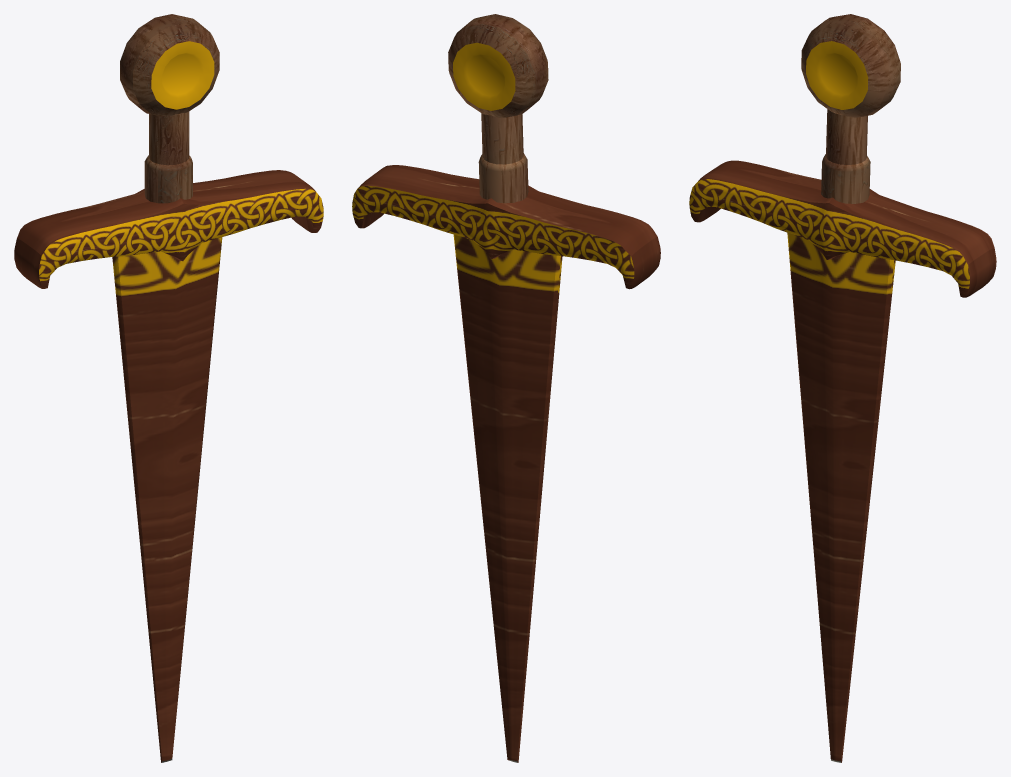
File: Sword.fbx
3 views of the same model, side by side, from view 1: azimuth 30°, elevation 25°; view 2: azimuth 150°, elevation 25°; view 3: azimuth 330°, elevation 25° (orthographic).
Parts seen in each view (by area): view 1: sword_blade, handle_hands, handle_circle, sword_handle; view 2: sword_blade, handle_hands, handle_circle, sword_handle; view 3: sword_blade, handle_hands, handle_circle, sword_handle.
Part boxes in pixels (left/top/right/bottom): sword_blade: left=112, top=237, right=222, bottom=762; handle_hands: left=14, top=170, right=323, bottom=288; handle_circle: left=120, top=14, right=219, bottom=116; sword_handle: left=144, top=111, right=192, bottom=203; sword_blade: left=453, top=234, right=562, bottom=762; handle_hands: left=352, top=165, right=660, bottom=289; handle_circle: left=448, top=14, right=548, bottom=117; sword_handle: left=478, top=113, right=528, bottom=203; sword_blade: left=787, top=232, right=895, bottom=762; handle_hands: left=689, top=160, right=996, bottom=297; handle_circle: left=801, top=14, right=900, bottom=117; sword_handle: left=821, top=109, right=870, bottom=203.
Bounding box in the file's own units: 1.49 × 3.68 × 0.3118.
